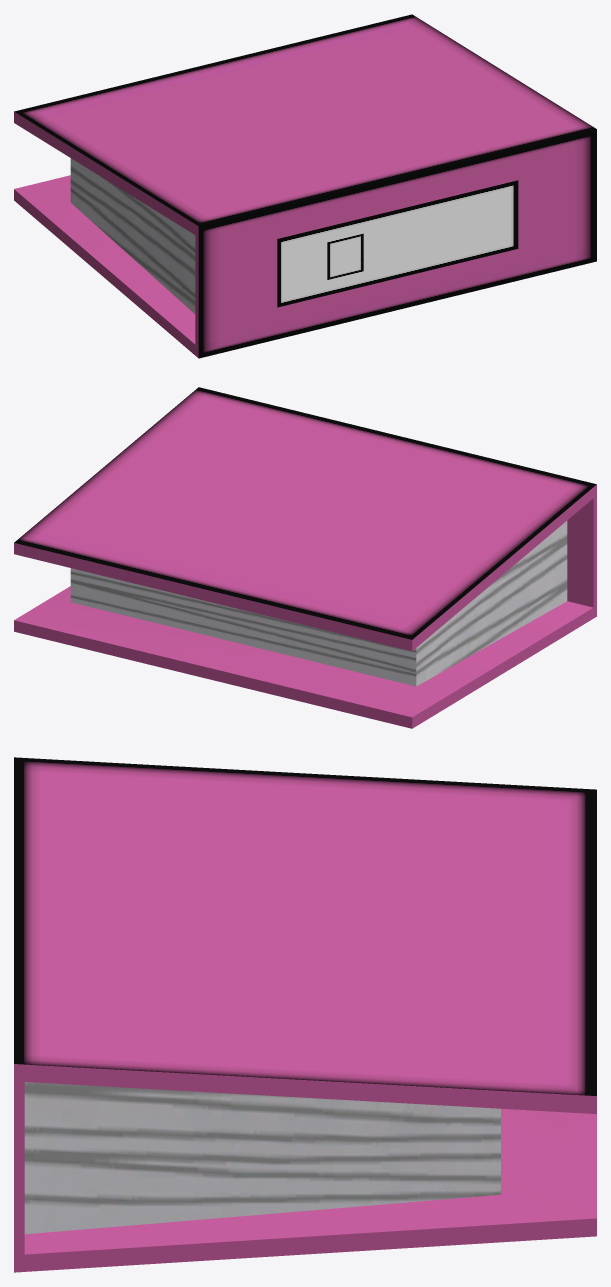
File: Folder_Pink_Individual.fbx
3 renders of one model, top to bottom at view 1: azimuth 30°, elevation 25°; view 2: azimuth 150°, elevation 25°; view 3: azimuth 270°, elevation 25°, orthographic. The views are drawn at different scales.
Visible parts, largest first — view 1: Folder1; view 2: Folder1; view 3: Folder1.
Boxes of the visible parts, bbox=[...] form: Folder1: bbox=[14, 14, 596, 358]; Folder1: bbox=[14, 387, 596, 728]; Folder1: bbox=[14, 757, 596, 1272].
Size of the model in its own units: 37.28 by 11.83 by 29.96.
